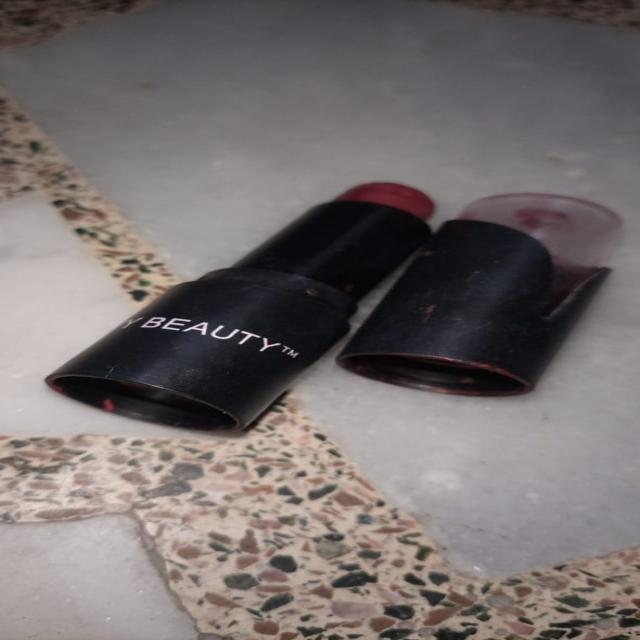lip stick: (33, 148, 638, 478)
